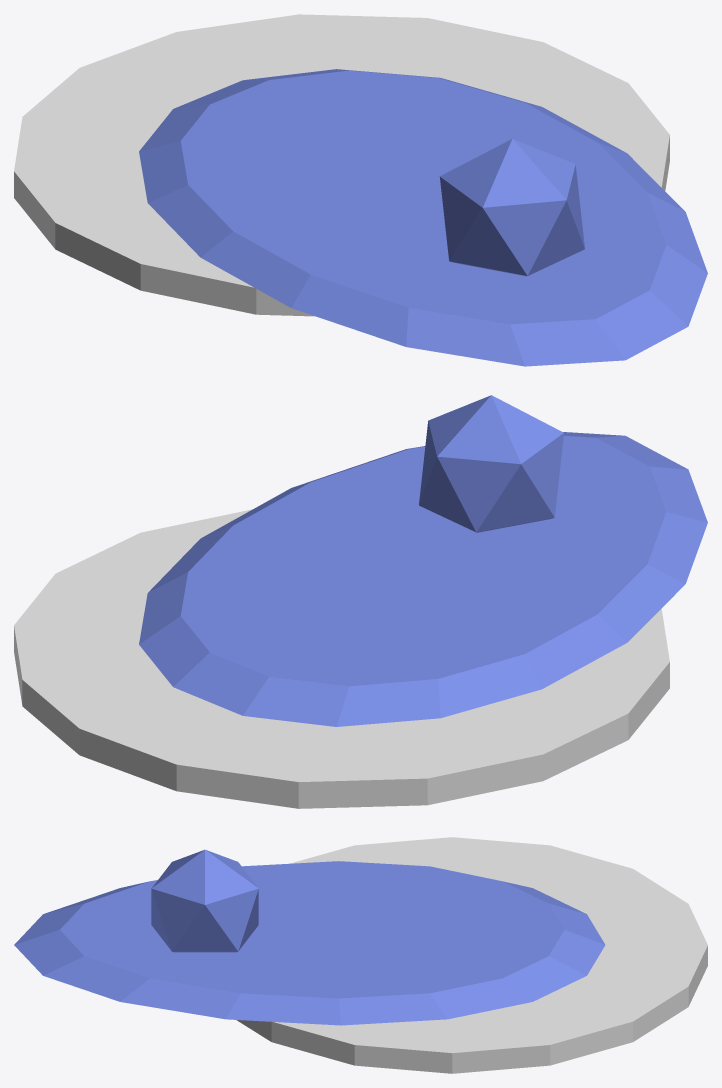
The model's file is HeartMo Pad.fbx.
The picture shows the model from 3 angles, top to bottom: view 1: azimuth 30°, elevation 25°; view 2: azimuth 150°, elevation 25°; view 3: azimuth 270°, elevation 25°; orthographic projection. The views are drawn at different scales.
Parts seen in each view (by area): view 1: HeartMo Pad; view 2: HeartMo Pad; view 3: HeartMo Pad.
Part boxes in pixels (box(x1,y1,x2,y2)): HeartMo Pad: box(14, 14, 707, 366); HeartMo Pad: box(14, 395, 707, 808); HeartMo Pad: box(14, 837, 707, 1073).
Bounding box in the file's own units: 4.8 × 1.24 × 6.52.
